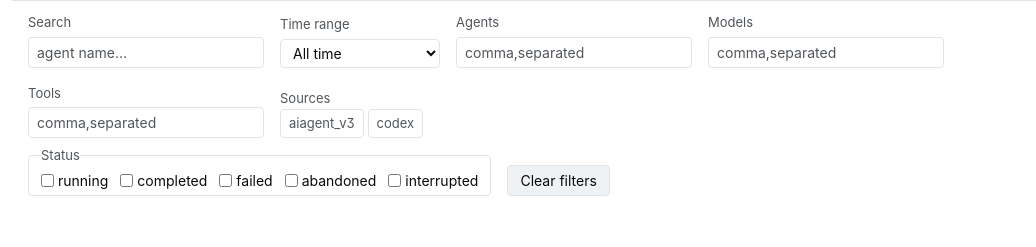
Scenario: FilterBar › selecting a time-range preset writes a from bound + range mirror (SOW-0067)
This screenshot has width=1036, height=247.
Step 1. Select "Last 7 days" in the dropdown named "time range preset" → (360, 53), box [280,38,440,68]
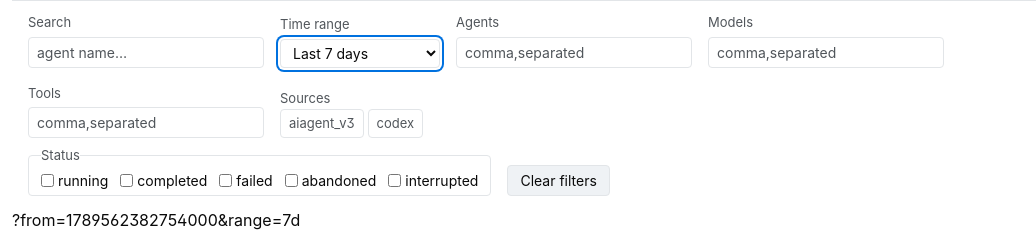
Result: the text with test id "loc" shows "range=7d" at [12,210,300,230]
Result: the text with test id "loc" shows "from=" at [12,210,300,230]
